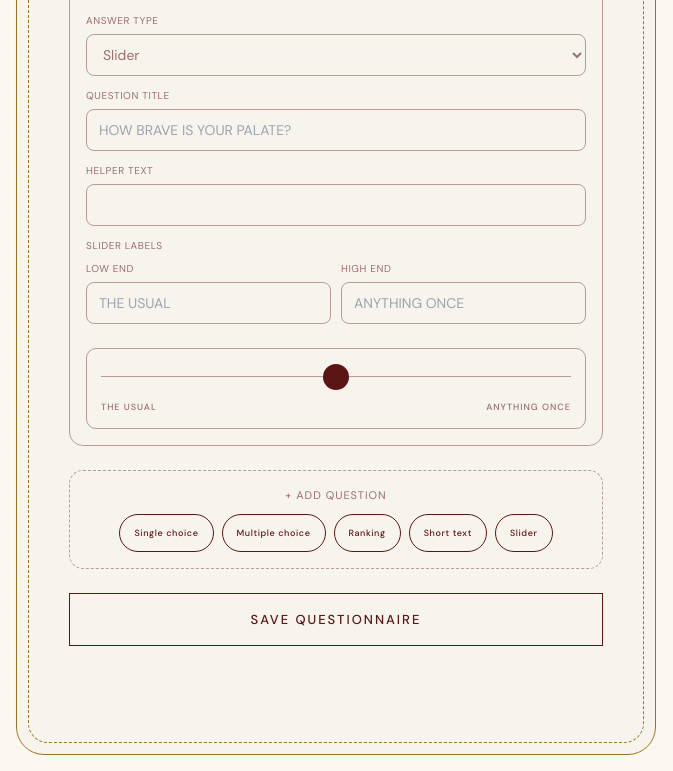
blocks save when a custom slider is missing an end label
(page scrolled)
Expected: the text "+ ADD QUESTION" is shown, [285, 488, 387, 502]
Click the button "Slider".
click(524, 532)  # box [495, 514, 552, 552]
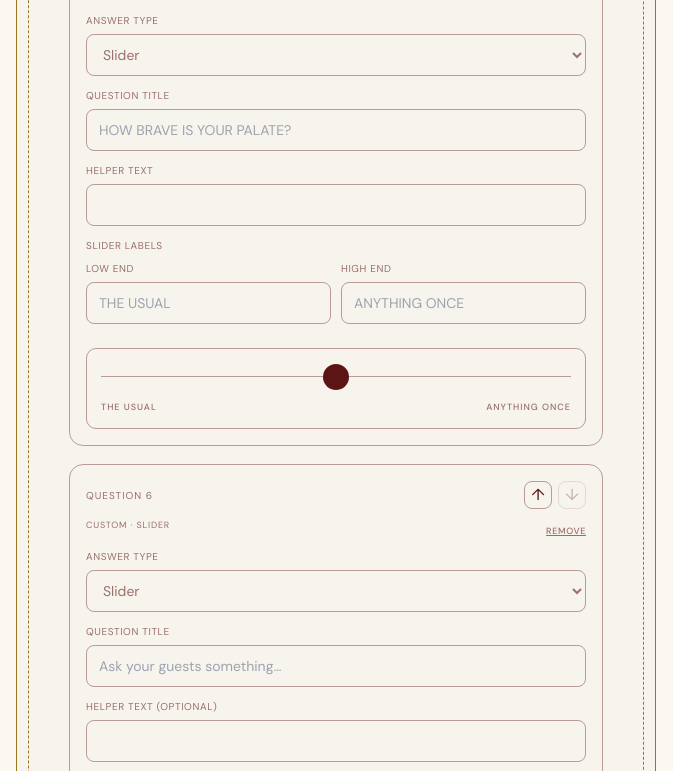
Type "Pick a spot" into the field with placeholder "Ask your guests something…" below "Custom ·".
click(336, 666); type("Pick a spot")  # box [86, 644, 586, 686]
(page scrolled)
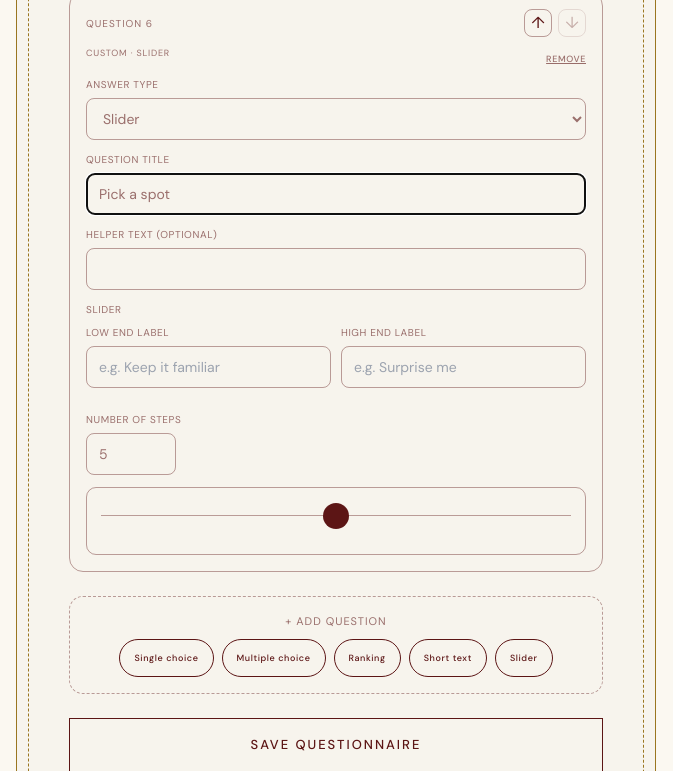
Type "Low" into the field labelled "Low end label".
click(208, 366); type("Low")  # box [86, 346, 331, 388]
(page scrolled)
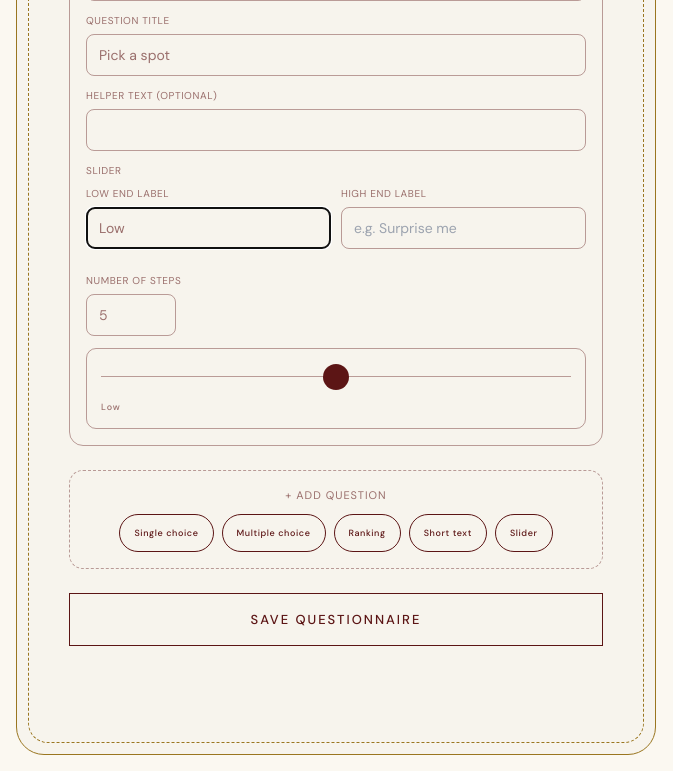
Click the button "SAVE QUESTIONNAIRE".
click(336, 619)  # box [69, 592, 603, 646]
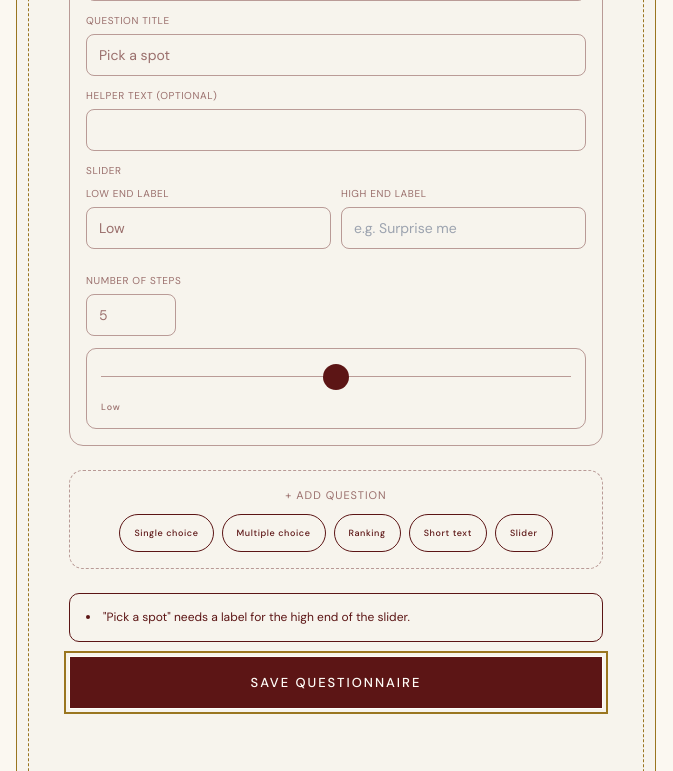
Result: the message shows "high end" at [103, 608, 410, 624]
